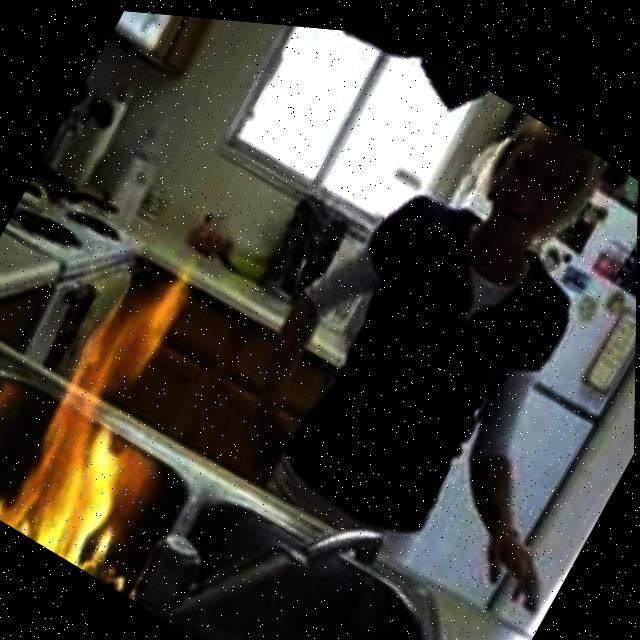Fire: (0, 232, 245, 587)
